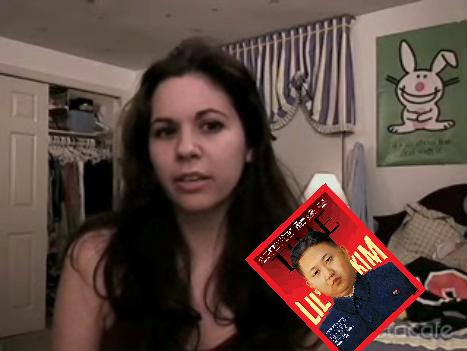times: (243, 182, 427, 349)
